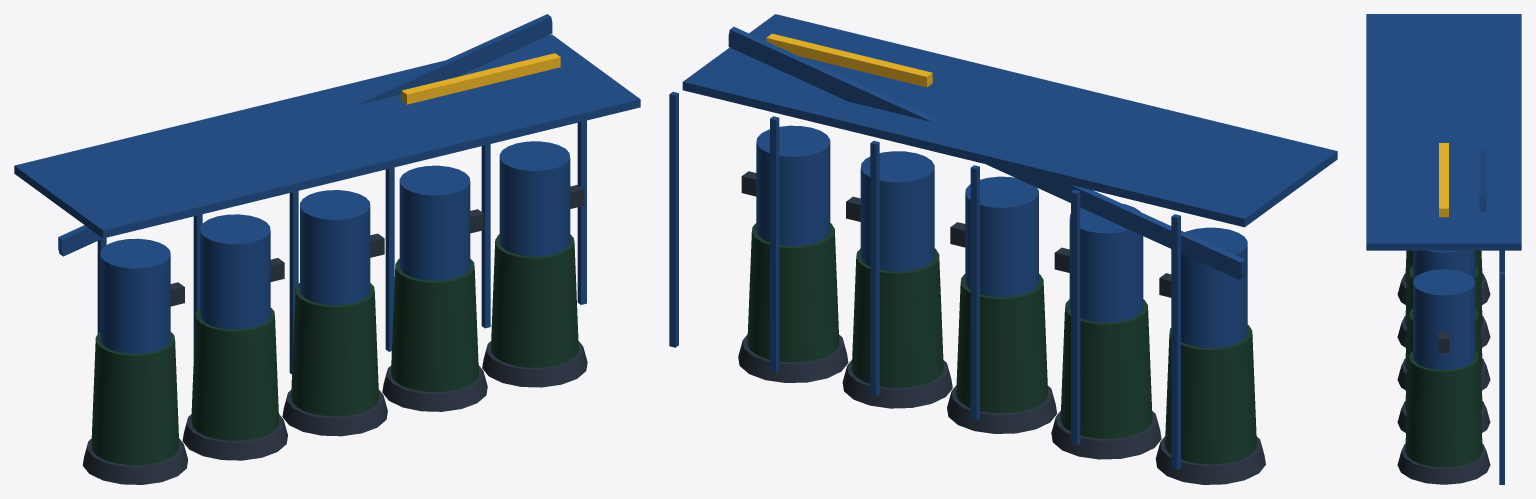
Rendered from pump_house.glb.
3 renders of one model, left to right at view 1: azimuth 30°, elevation 25°; view 2: azimuth 150°, elevation 25°; view 3: azimuth 270°, elevation 25°, orthographic. The views are drawn at different scales.
Visible parts, largest first — view 1: spinner (×5), object 33, object 17, object 13, object 5, object 1, object 9, object 34, object 8, object 20, object 12, object 16 (+11 smaller); view 2: object 33, spinner (×5), object 13, object 17, object 9, object 5, object 1, object 31, object 21, object 34, object 32, object 22 (+13 smaller); view 3: object 33, spinner (×4), object 17, object 20, object 13, object 32, object 34, object 31, object 16, object 4, object 8, object 12 (+1 smaller).
Boxes of the visible parts, x1,y1,x2,y2 form: spinner (×5): (91,234,578,465); object 33: (14,34,640,238); object 17: (499,141,570,256); object 13: (399,165,470,280); object 5: (200,214,270,329); object 1: (100,238,170,353); object 9: (300,190,370,305); object 34: (401,53,560,104); object 8: (182,414,287,460); object 20: (482,341,587,387); object 12: (282,389,387,436); object 16: (382,365,487,411); object 33: (682,14,1337,227); spinner (×5): (747,223,1256,464); object 13: (860,151,934,271); object 17: (756,125,830,246); object 9: (965,176,1038,296); object 5: (1069,203,1143,322); object 1: (1181,227,1247,347); object 31: (728,27,1245,264); object 21: (728,40,1245,279); object 34: (766,33,932,87); object 32: (669,91,678,347); object 22: (1171,214,1180,469); object 33: (1366,14,1521,250); spinner (×4): (1405,250,1482,467); object 17: (1413,269,1474,369); object 20: (1397,443,1490,484); object 13: (1413,250,1474,281); object 32: (1499,271,1504,484); object 34: (1439,143,1448,217); object 31: (1479,150,1486,203); object 16: (1397,401,1490,432); object 4: (1397,273,1490,304); object 8: (1397,316,1490,347); object 12: (1397,358,1490,390).
Bounding box in the file's own units: 29.15 × 16.15 × 8.
